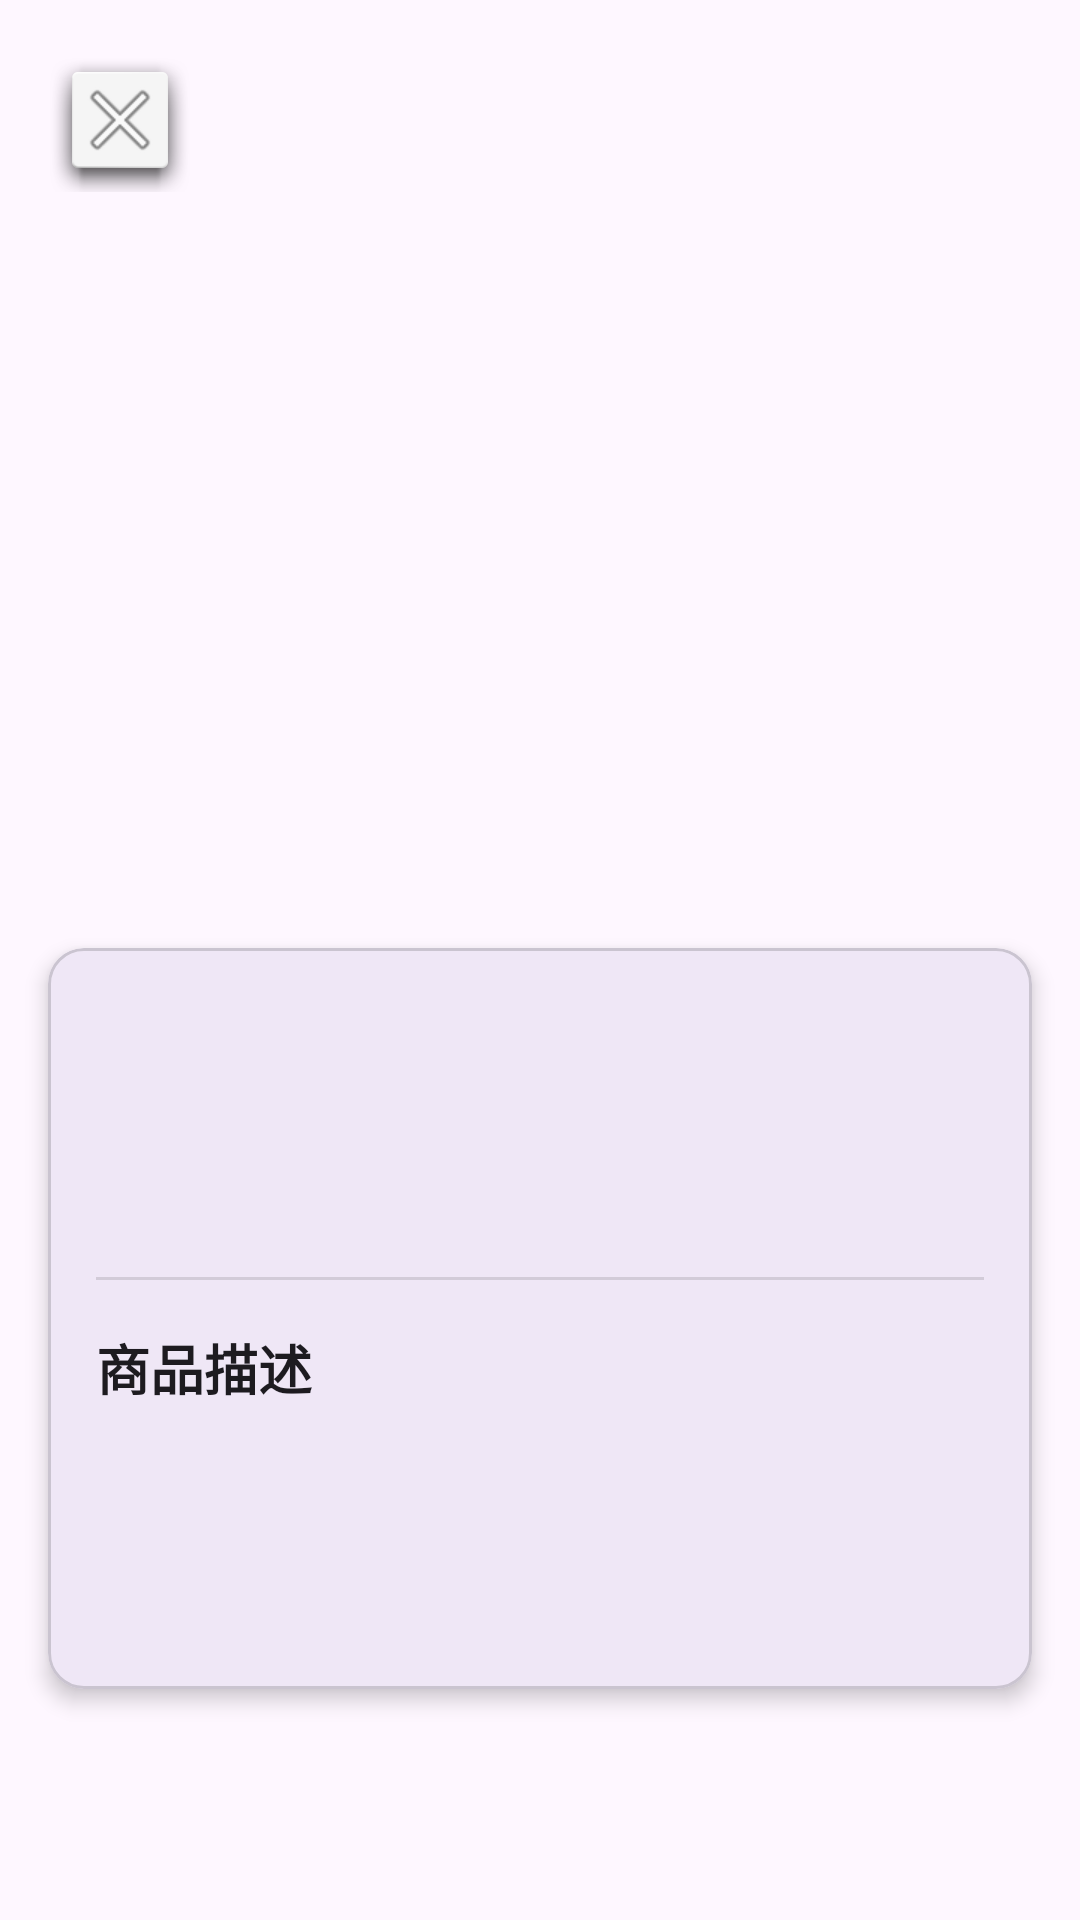

Icon bounding boxes for this 1080*1920 phone screenshot, format (x1, y1, x2, y2):
返回: (55, 63, 185, 192)
